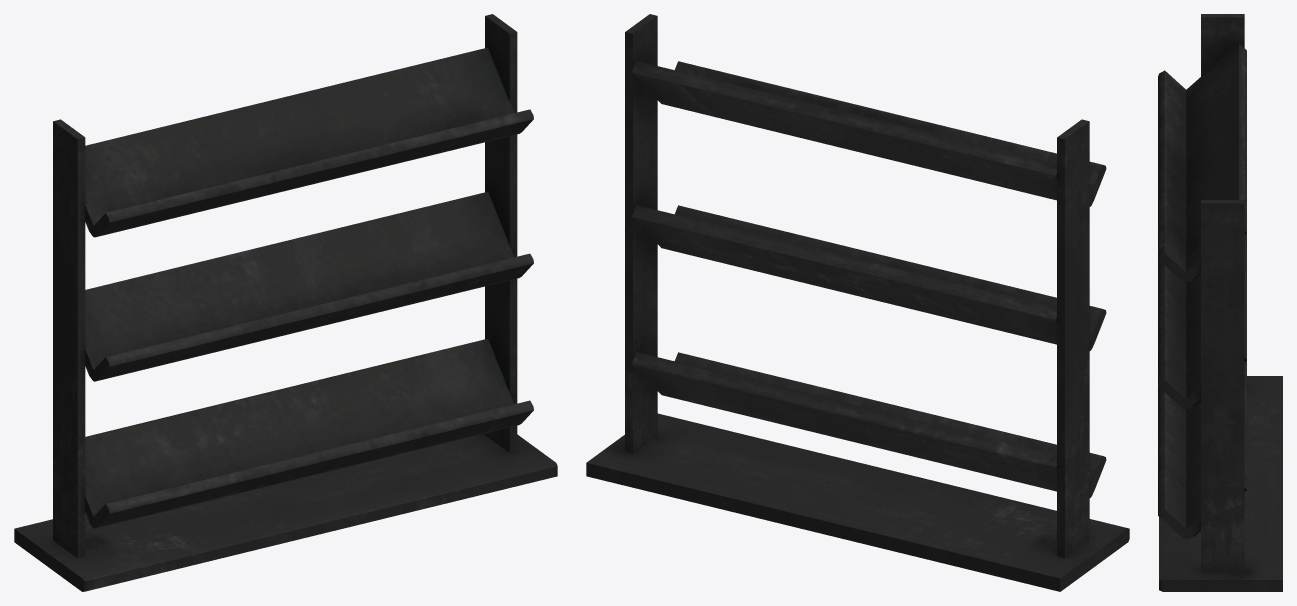
File: foodcreator_shelf.DAE
3 views of the same model, side by side, from view 1: azimuth 30°, elevation 25°; view 2: azimuth 150°, elevation 25°; view 3: azimuth 270°, elevation 25° (orthographic). The views are drawn at different scales.
Visible parts, largest first — view 1: foodcreator_shelf; view 2: foodcreator_shelf; view 3: foodcreator_shelf.
Part boxes in pixels (box(x1,y1,x2,y2)): foodcreator_shelf: box(14, 14, 557, 591); foodcreator_shelf: box(586, 14, 1129, 591); foodcreator_shelf: box(1158, 14, 1282, 591).
Bounding box in the file's own units: 0.6874 × 0.5995 × 0.1778.
